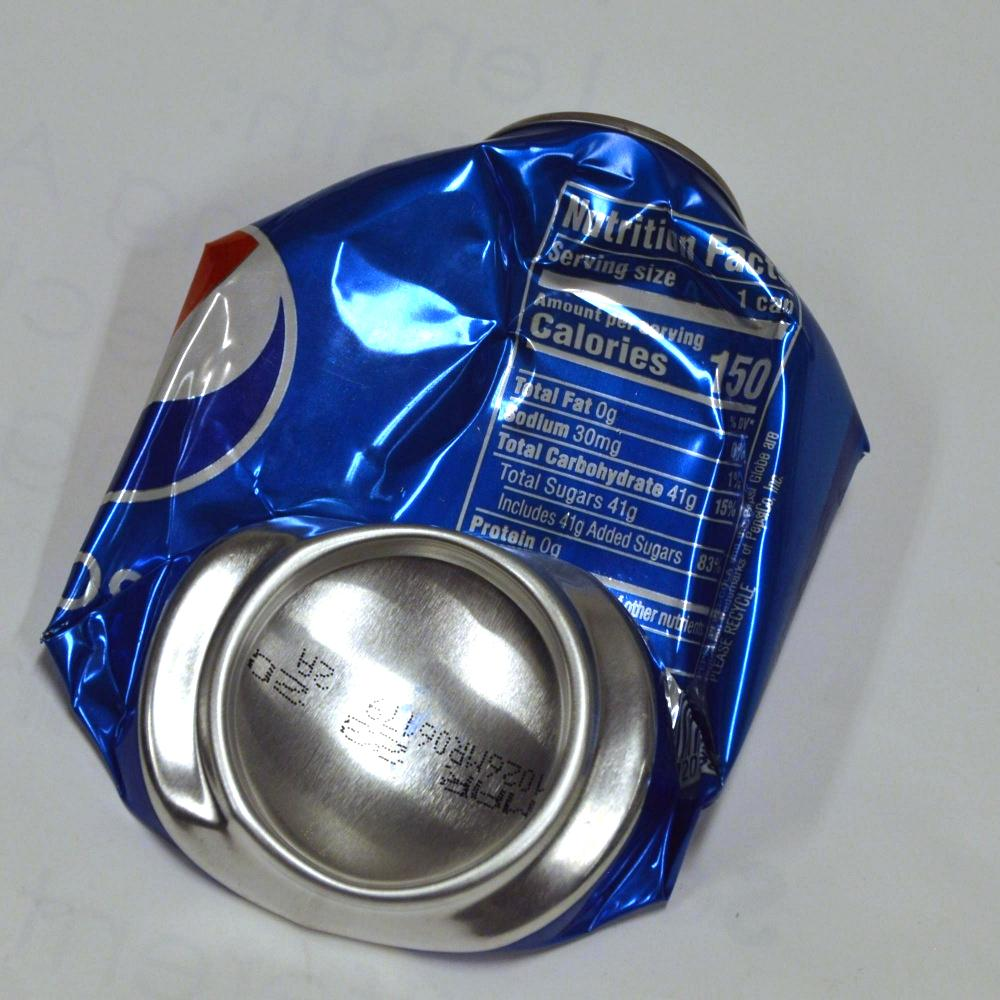Metal: (28, 97, 853, 888)
